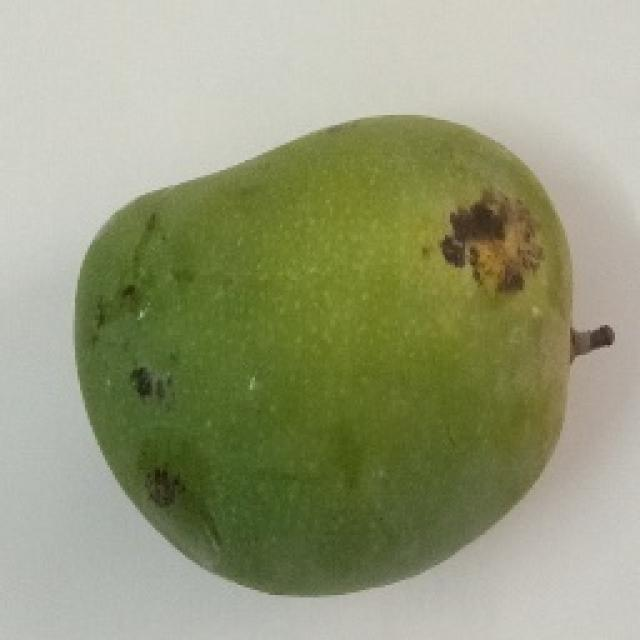defective: (70, 110, 615, 598)
